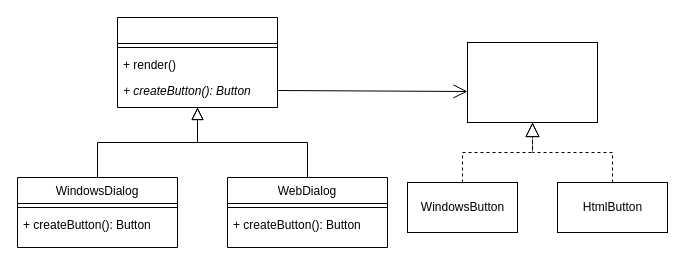
Image size: 685x265. Some labels were removed from this diagram. Here are the shapes that lost their labels. From the top down, the box of each, then its label:
(116, 16, 278, 108): Dialog
(466, 42, 598, 122): <<Interface>> Button + render() + onClick()
